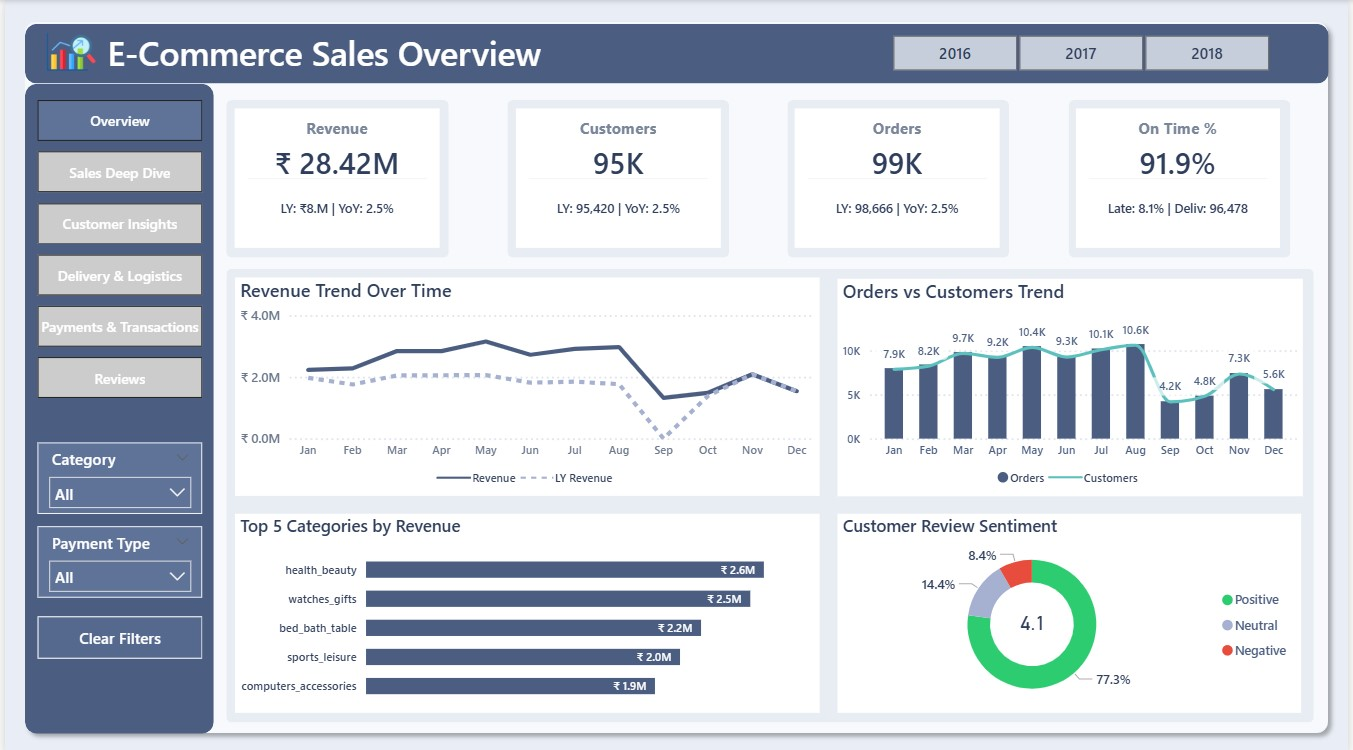

This screenshot's page, from the dashboard's own definition file:
{"tool":"powerbi","page":{"name":"Overview","canvas":[1280,720],"ordinal":0},"visuals":[{"type":"shape","box":[9.5,11.9,1259.5,695.2],"z":0},{"type":"shape","box":[19,22.6,1241.7,57.1],"z":1000},{"type":"textbox","box":[31,23.8,600,54.8],"z":2000},{"type":"slicer","fields":{"Values":["DimDate.Year"]},"box":[823.8,31,400,39.3],"z":3000},{"type":"shape","box":[19,79.8,179.8,619.1],"z":4000},{"type":"slicer","fields":{"Values":["bi_fact_sales_full.category"]},"box":[31,421.4,157.1,67.9],"z":5000},{"type":"slicer","fields":{"Values":["bi_fact_sales_full.payment_type"]},"box":[31,501.2,157.1,67.9],"z":6000},{"type":"actionButton","box":[31,586.9,157.1,40.5],"z":7000},{"type":"shape","box":[210.7,95.2,211.9,150],"z":8000},{"type":"cardVisual","fields":{"Data":["bi_fact_sales_full.Revenue"]},"box":[210.7,92.9,211.9,150],"z":9000},{"type":"shape","box":[478.7,95.2,211,150],"z":10000},{"type":"shape","box":[745.7,95.2,211,150],"z":11000},{"type":"shape","box":[1012.7,95.2,211,150],"z":12000},{"type":"cardVisual","fields":{"Data":["bi_fact_sales_full.On Time %"]},"box":[1011.9,92.9,210.7,150],"z":13000},{"type":"cardVisual","fields":{"Data":["bi_fact_sales_full.Customers"]},"box":[478.2,92.9,210.7,150],"z":14000},{"type":"cardVisual","fields":{"Data":["bi_fact_sales_full.Orders"]},"box":[744.4,92.9,211.9,150],"z":15000},{"type":"shape","box":[210.7,256,1035.7,432.1],"z":16000},{"type":"lineChart","title":"Revenue Trend Over Time","fields":{"Y":["bi_fact_sales_full.Revenue","bi_fact_sales_full.LY"],"Category":["DimDate.Month"]},"box":[219,264.3,557.1,208.3],"z":17000},{"type":"lineClusteredColumnComboChart","title":"Orders vs Customers Trend","fields":{"Y":["bi_fact_sales_full.Orders"],"Y2":["bi_fact_sales_full.Customers"],"Category":["DimDate.Month"]},"box":[792.9,265.5,442.9,207.1],"z":18000},{"type":"clusteredBarChart","title":"Top 5 Categories by Revenue","fields":{"Category":["bi_fact_sales_full.category"],"Y":["bi_fact_sales_full.Revenue"]},"box":[219,489.3,557.1,189.3],"z":19000},{"type":"donutChart","title":"Customer Review Sentiment","fields":{"Category":["olist_order_reviews_dataset.Review Type"],"Y":["bi_fact_sales_full.Customers"]},"box":[792.9,489.3,441.7,189.3],"z":20000},{"type":"card","fields":{"Values":["bi_fact_sales_full.Avg Rating Display"]},"box":[929.8,559.5,98.8,67.9],"z":21000},{"type":"pageNavigator","box":[31,95.2,157.1,284.5],"z":22000},{"type":"image","box":[28.6,26.2,69,46.4],"z":22001}]}

Visuals, with their boxes in screenshot pixels (x1, y1, x2, y2), scaled from the page's 1280x720 canvas onto the 1353x750 screenshot:
shape: x1=10 y1=12 x2=1341 y2=737
shape: x1=20 y1=24 x2=1333 y2=83
textbox: x1=33 y1=25 x2=667 y2=82
slicer - DimDate.Year: x1=871 y1=32 x2=1294 y2=73
shape: x1=20 y1=83 x2=210 y2=728
slicer - bi_fact_sales_full.category: x1=33 y1=439 x2=199 y2=510
slicer - bi_fact_sales_full.payment_type: x1=33 y1=522 x2=199 y2=593
actionButton: x1=33 y1=611 x2=199 y2=654
shape: x1=223 y1=99 x2=447 y2=255
cardVisual - bi_fact_sales_full.Revenue: x1=223 y1=97 x2=447 y2=253
shape: x1=506 y1=99 x2=729 y2=255
shape: x1=788 y1=99 x2=1011 y2=255
shape: x1=1070 y1=99 x2=1293 y2=255
cardVisual - bi_fact_sales_full.On Time %: x1=1070 y1=97 x2=1292 y2=253
cardVisual - bi_fact_sales_full.Customers: x1=505 y1=97 x2=728 y2=253
cardVisual - bi_fact_sales_full.Orders: x1=787 y1=97 x2=1011 y2=253
shape: x1=223 y1=267 x2=1317 y2=717
"Revenue Trend Over Time" lineChart: x1=231 y1=275 x2=820 y2=492
"Orders vs Customers Trend" lineClusteredColumnComboChart: x1=838 y1=277 x2=1306 y2=492
"Top 5 Categories by Revenue" clusteredBarChart: x1=231 y1=510 x2=820 y2=707
"Customer Review Sentiment" donutChart: x1=838 y1=510 x2=1305 y2=707
card - bi_fact_sales_full.Avg Rating Display: x1=983 y1=583 x2=1087 y2=654
pageNavigator: x1=33 y1=99 x2=199 y2=396
image: x1=30 y1=27 x2=103 y2=76
